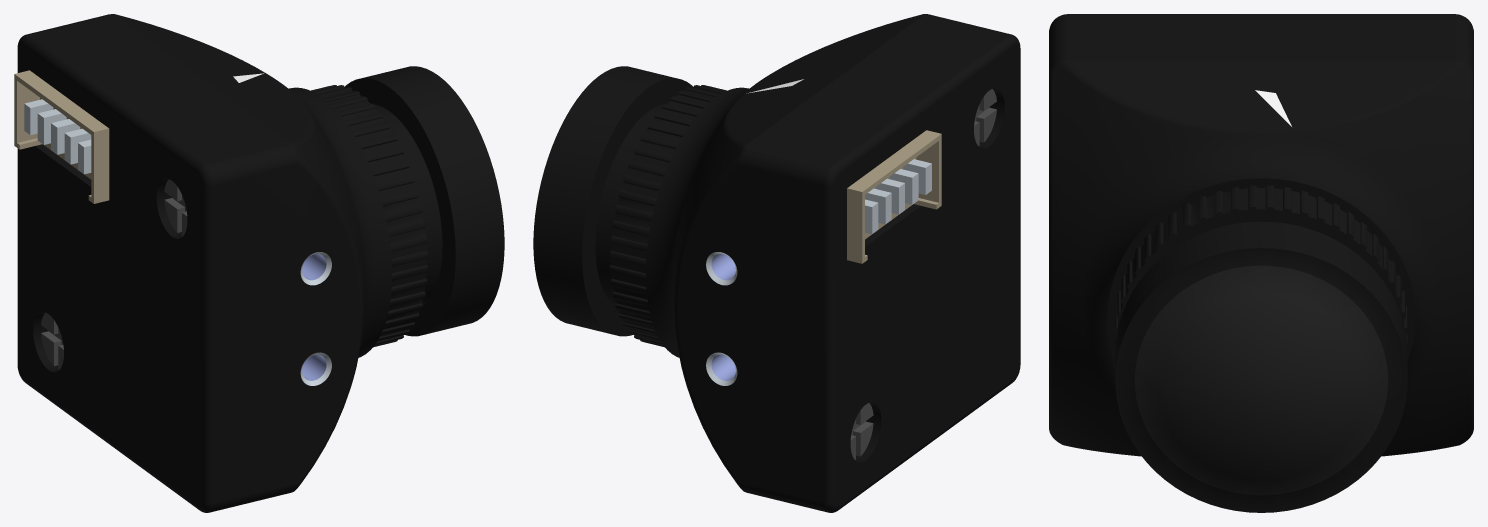
File: sensor.obj
The picture shows the model from 3 angles, left to right: view 1: azimuth 30°, elevation 25°; view 2: azimuth 150°, elevation 25°; view 3: azimuth 270°, elevation 25°; orthographic projection. The views are drawn at different scales.
Parts seen in each view (by area): view 1: foxeer; view 2: foxeer; view 3: foxeer.
Part boxes in pixels (bbox=[...]): foxeer: bbox=[14, 14, 504, 512]; foxeer: bbox=[533, 14, 1020, 512]; foxeer: bbox=[1049, 14, 1473, 512].
Size of the model in its own units: 0.0245 by 0.0218 by 0.0218.
